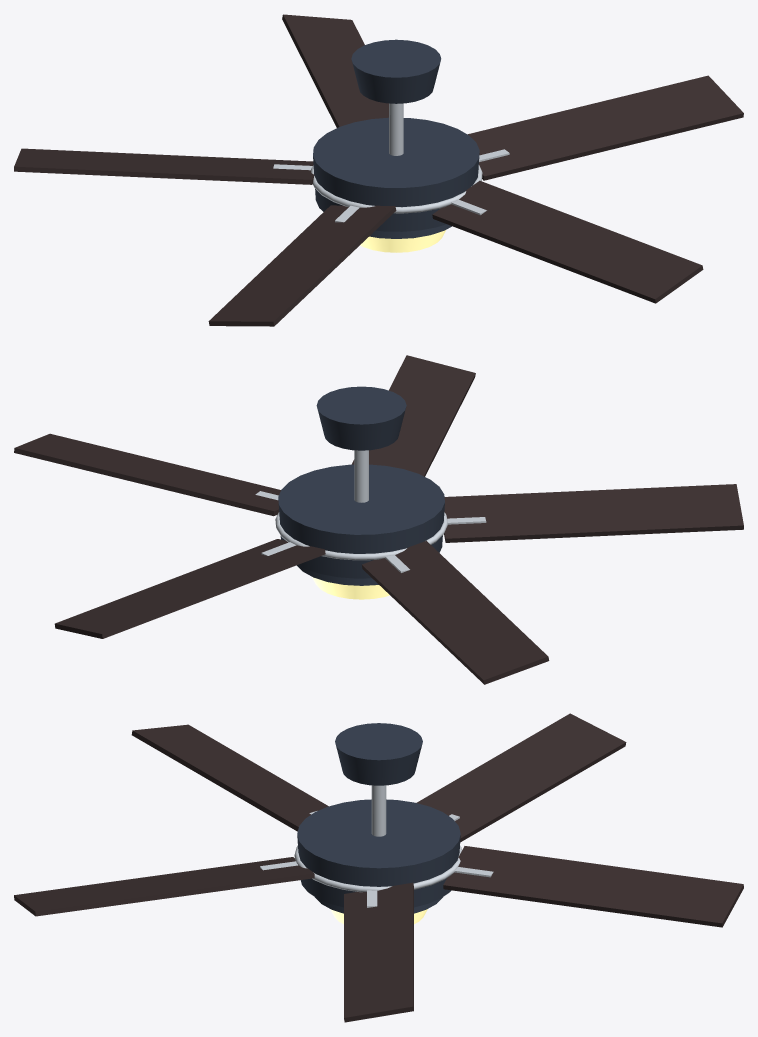
3 views of the same model, one above another, from view 1: azimuth 30°, elevation 25°; view 2: azimuth 150°, elevation 25°; view 3: azimuth 270°, elevation 25° (orthographic). The views are drawn at different scales.
Parts seen in each view (by area): view 1: cad-fixture-ceiling-fan-light; view 2: cad-fixture-ceiling-fan-light; view 3: cad-fixture-ceiling-fan-light.
Part boxes in pixels (x1,y1,x2,y2): cad-fixture-ceiling-fan-light: [14, 14, 743, 326]; cad-fixture-ceiling-fan-light: [14, 355, 743, 684]; cad-fixture-ceiling-fan-light: [14, 713, 743, 1022].
Bounding box in the file's own units: 1.23 × 0.333 × 1.29.
